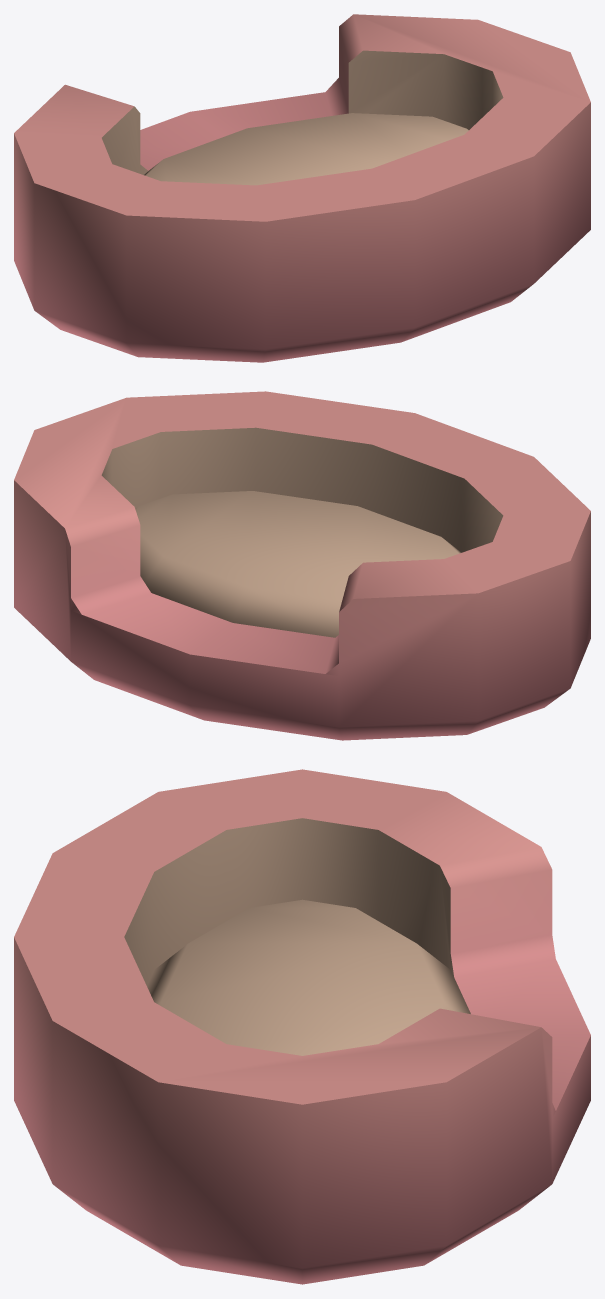
The model's file is pet-bed-round.glb.
3 views of the same model, one above another, from view 1: azimuth 30°, elevation 25°; view 2: azimuth 150°, elevation 25°; view 3: azimuth 270°, elevation 25° (orthographic). The views are drawn at different scales.
Visible parts, largest first — view 1: pet-bed-round; view 2: pet-bed-round; view 3: pet-bed-round.
Boxes of the visible parts, x1=… form: pet-bed-round: x1=14, y1=14, x2=590, y2=362; pet-bed-round: x1=14, y1=391, x2=590, y2=740; pet-bed-round: x1=14, y1=769, x2=590, y2=1284.
Size of the model in its own units: 1.1 by 0.3 by 0.8.
